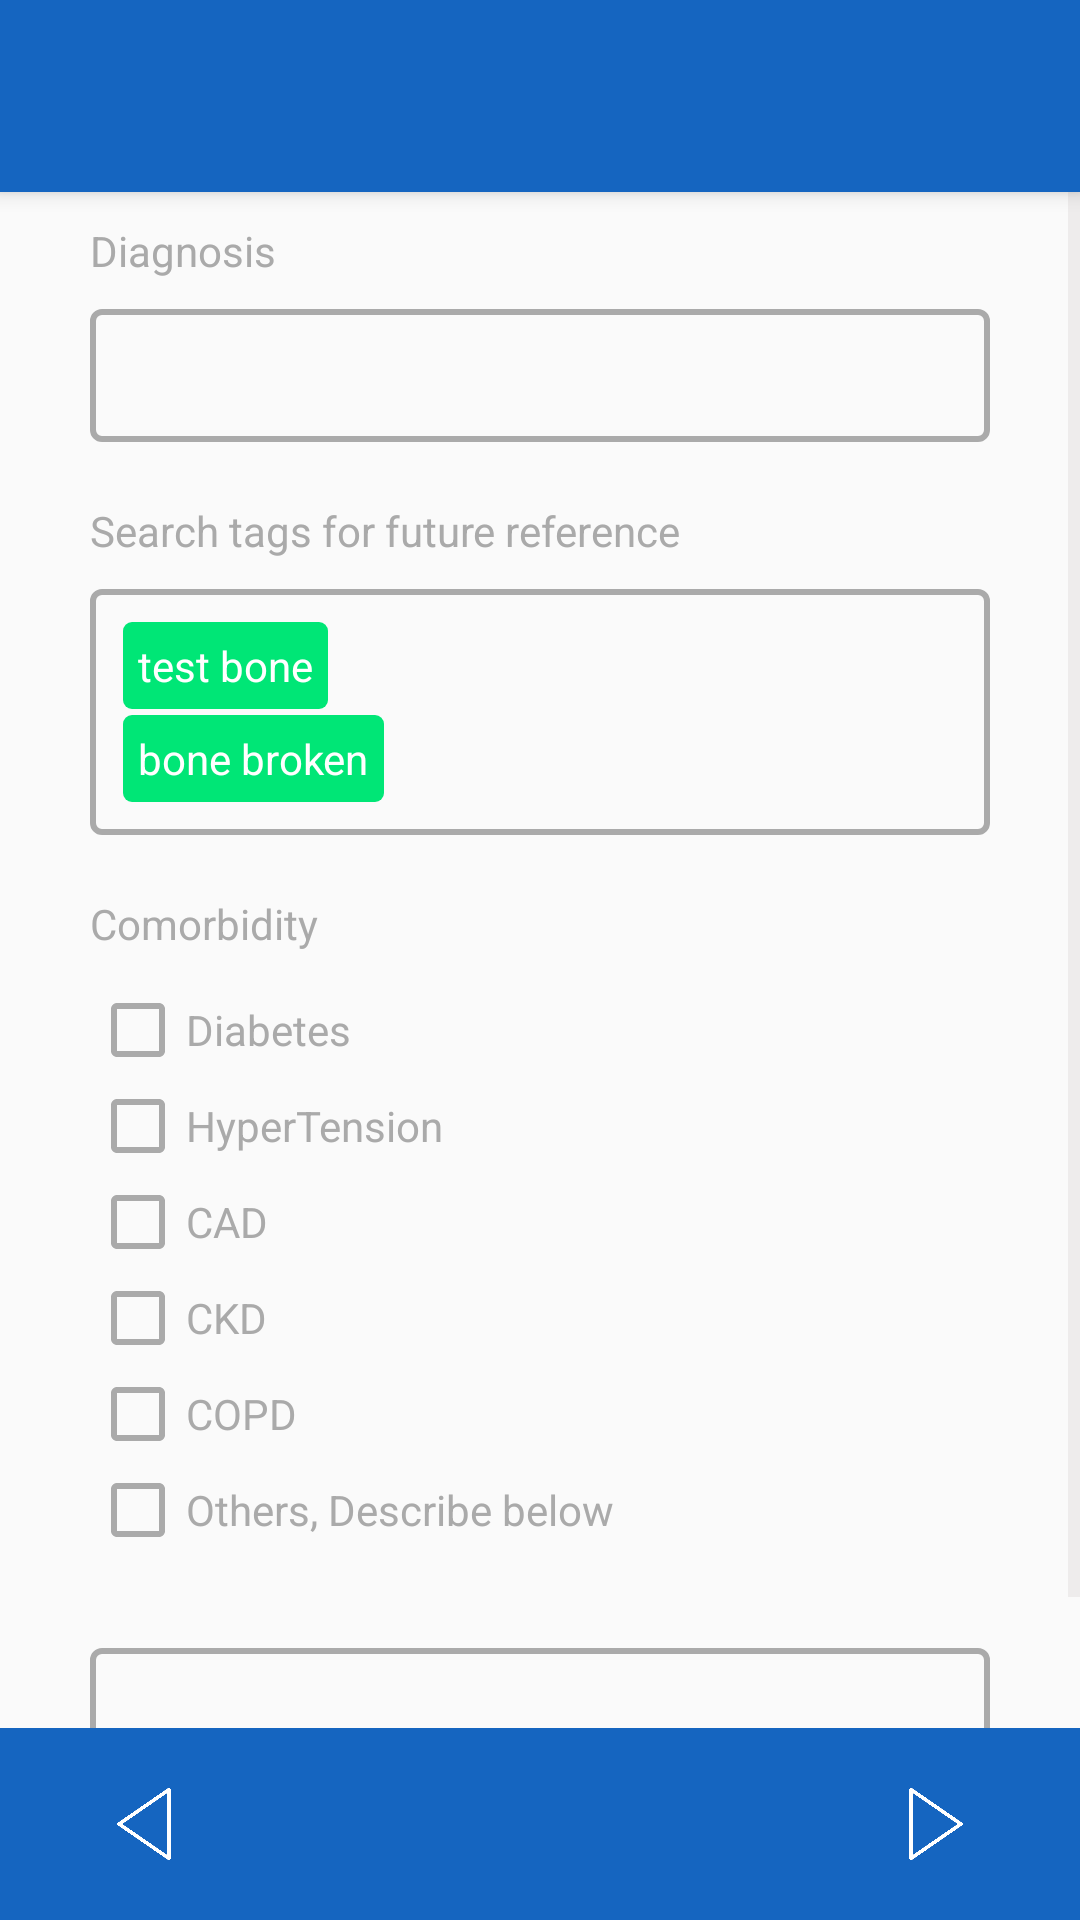

Point at icon controls on the screen. Image size 1080x1920, points as (x,y).
left: (144,1824)
right: (936,1824)
